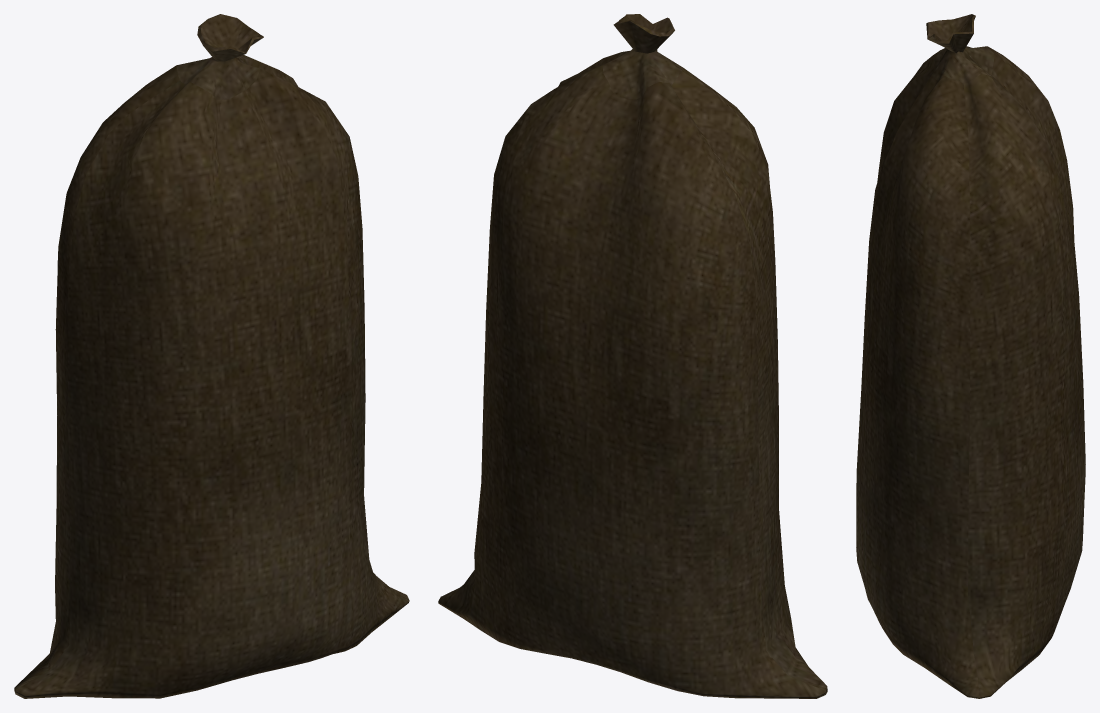
File: Sack03.fbx
The picture shows the model from 3 angles, left to right: view 1: azimuth 30°, elevation 25°; view 2: azimuth 150°, elevation 25°; view 3: azimuth 270°, elevation 25°; orthographic projection. The views are drawn at different scales.
Visible parts, largest first — view 1: Sack03; view 2: Sack03; view 3: Sack03.
Boxes of the visible parts, x1,y1,x2,y2 form: Sack03: (14,14,409,698); Sack03: (438,14,827,698); Sack03: (856,14,1085,698).
Bounding box in the file's own units: 53.85 × 83.51 × 29.1.
